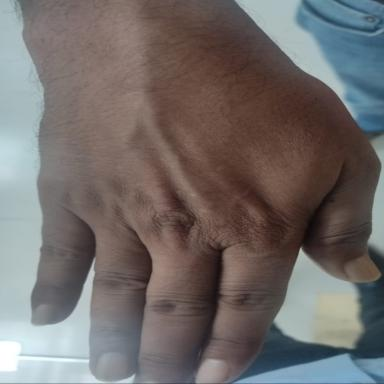normal skin: (20, 0, 379, 383)
